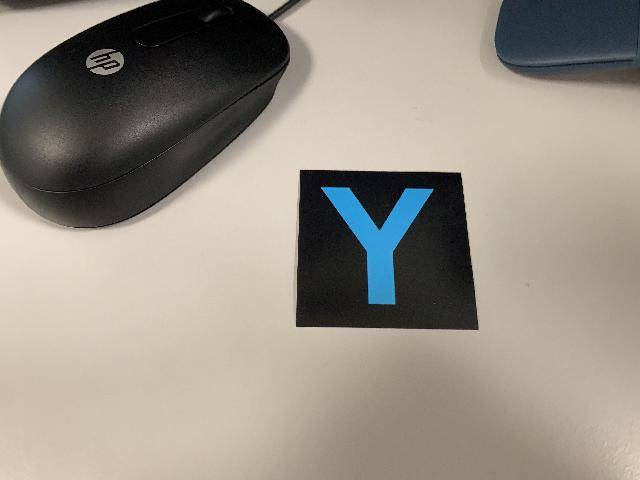alphabet_y: (295, 167, 479, 332)
